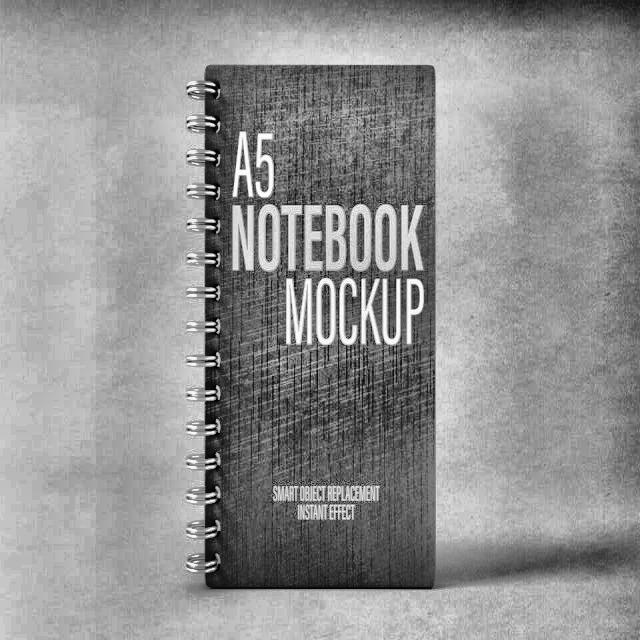Notebook: (179, 47, 448, 605)
